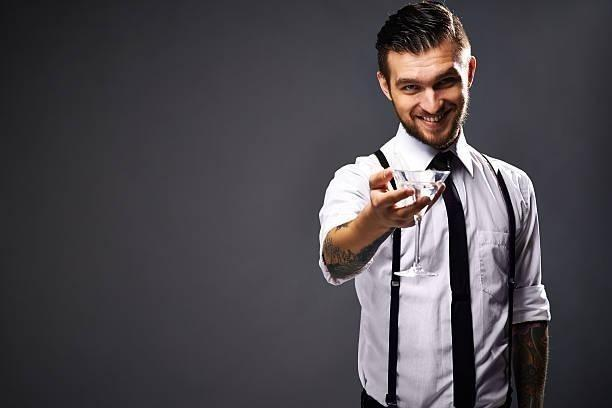glass-wine: (388, 168, 451, 278)
